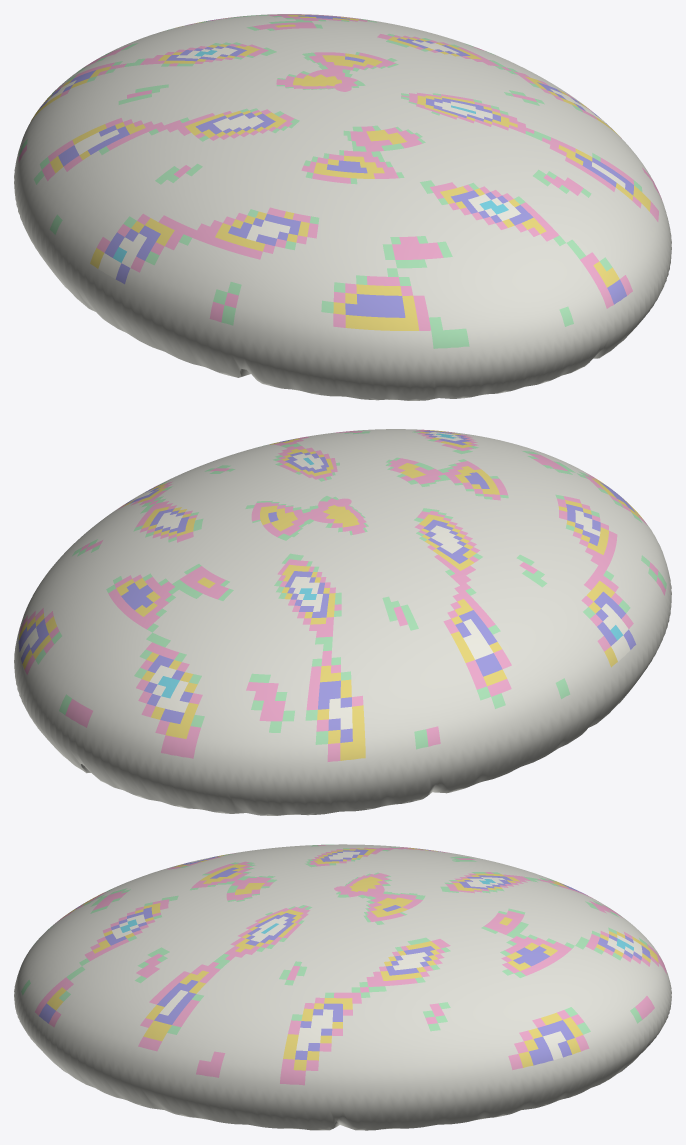
Rendered from jewelry.glb.
3 renders of one model, top to bottom at view 1: azimuth 30°, elevation 25°; view 2: azimuth 150°, elevation 25°; view 3: azimuth 270°, elevation 25°, orthographic. The views are drawn at different scales.
Visible parts, largest first — view 1: Gemstone Opal; view 2: Gemstone Opal; view 3: Gemstone Opal.
Part boxes in pixels (box(x1,y1,x2,y2)): Gemstone Opal: box(14, 14, 671, 400); Gemstone Opal: box(14, 429, 671, 815); Gemstone Opal: box(14, 844, 671, 1130).
Bounding box in the file's own units: 1.98 × 0.5997 × 2.53.
